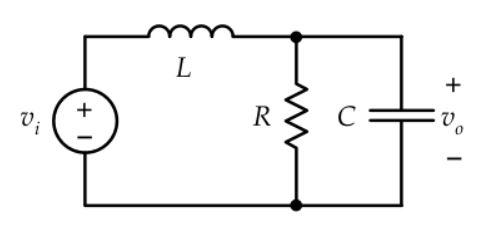Capacitor: (367, 87, 438, 141)
